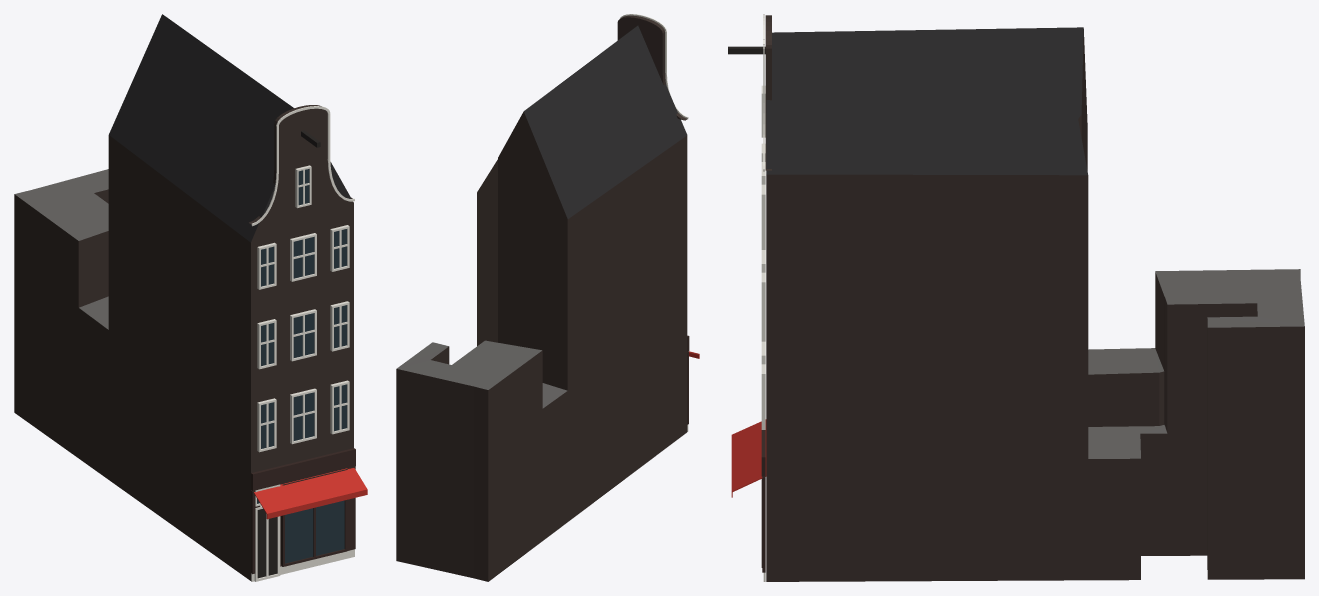
The picture shows the model from 3 angles, left to right: view 1: azimuth 30°, elevation 25°; view 2: azimuth 150°, elevation 25°; view 3: azimuth 270°, elevation 25°; orthographic projection. The views are drawn at different scales.
Visible parts, largest first — view 1: spec-0363100012182581; view 2: spec-0363100012182581; view 3: spec-0363100012182581.
Boxes of the visible parts, x1=… form: spec-0363100012182581: x1=14, y1=14, x2=367, y2=581; spec-0363100012182581: x1=396, y1=14, x2=699, y2=581; spec-0363100012182581: x1=728, y1=14, x2=1304, y2=581.
Bounding box in the file's own units: 4.14 × 16.93 × 16.63.
